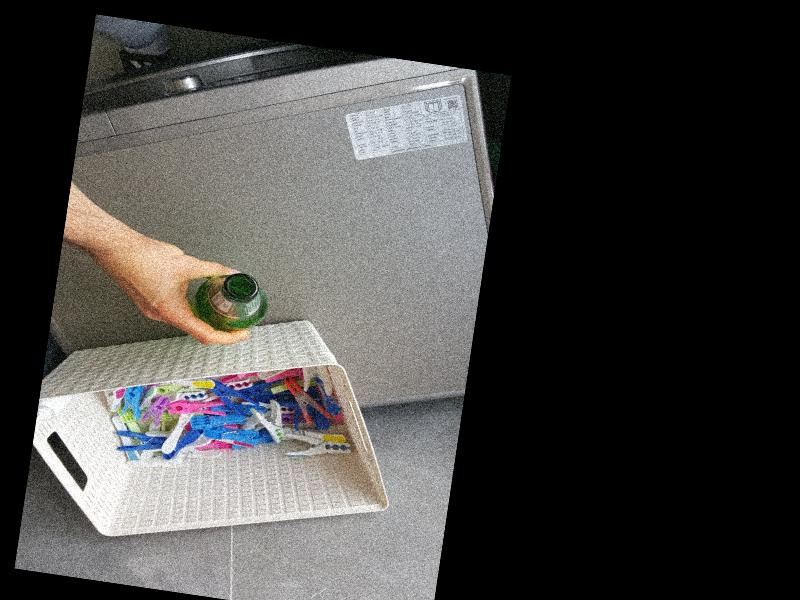Beer: (189, 265, 272, 336)
